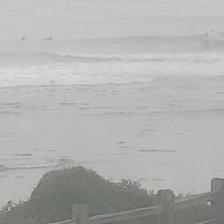surfer: (42, 36, 53, 40), (20, 36, 26, 40), (210, 29, 214, 32)
